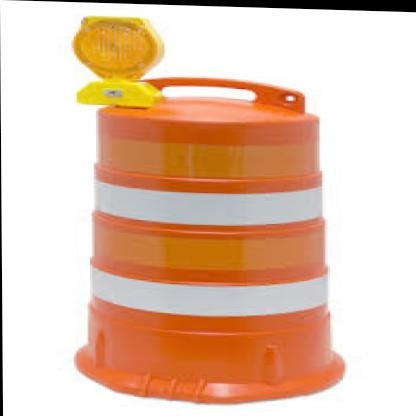obstacle: (67, 67, 340, 394)
